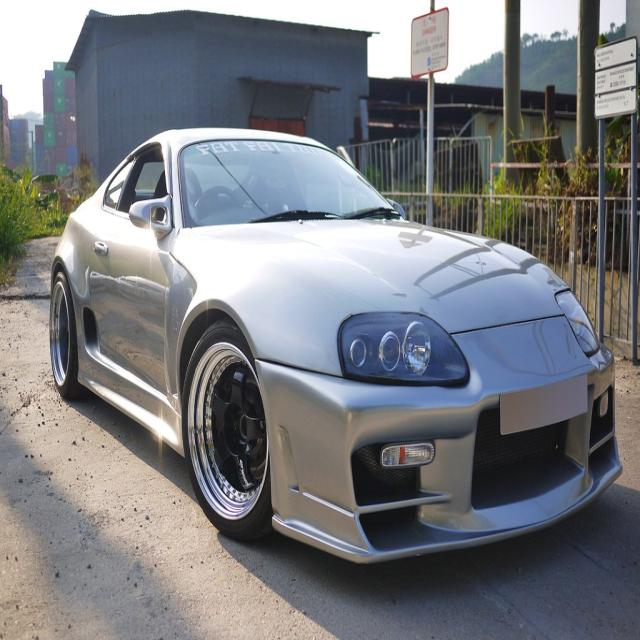car: (49, 120, 619, 569)
